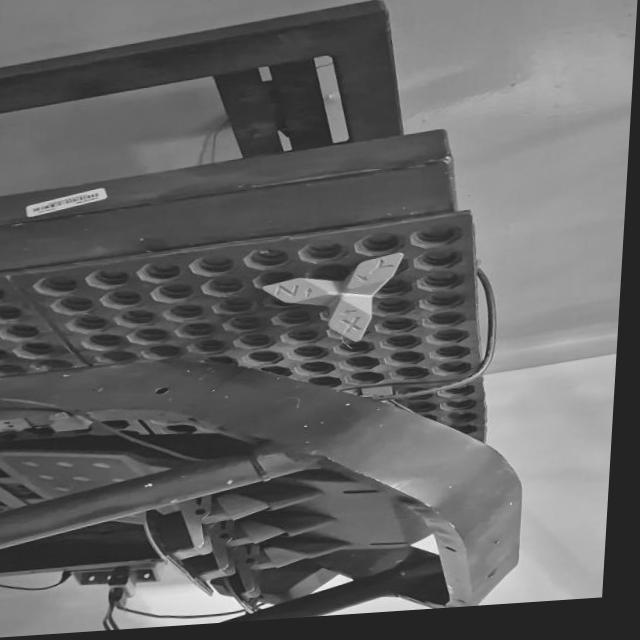eje: (257, 251, 405, 349)
